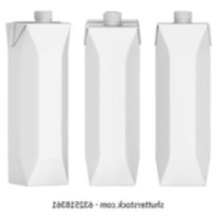carton: (3, 6, 74, 188), (150, 8, 215, 190), (81, 8, 142, 189)
